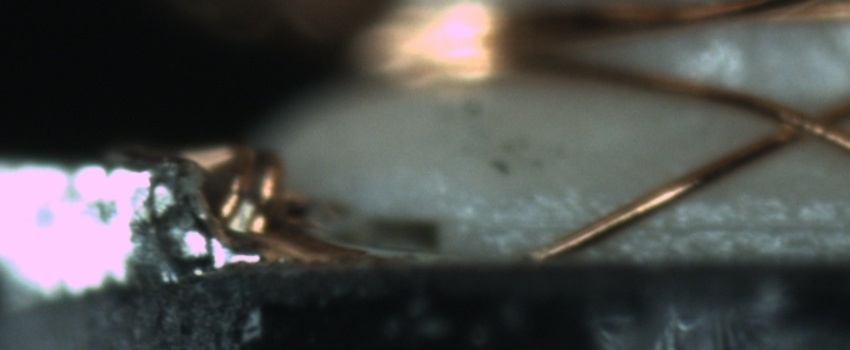CL: (753, 91, 846, 154)
DL: (523, 191, 849, 248)
TE: (194, 131, 293, 244)
